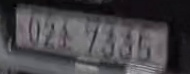02소7335: (21, 16, 156, 62)
